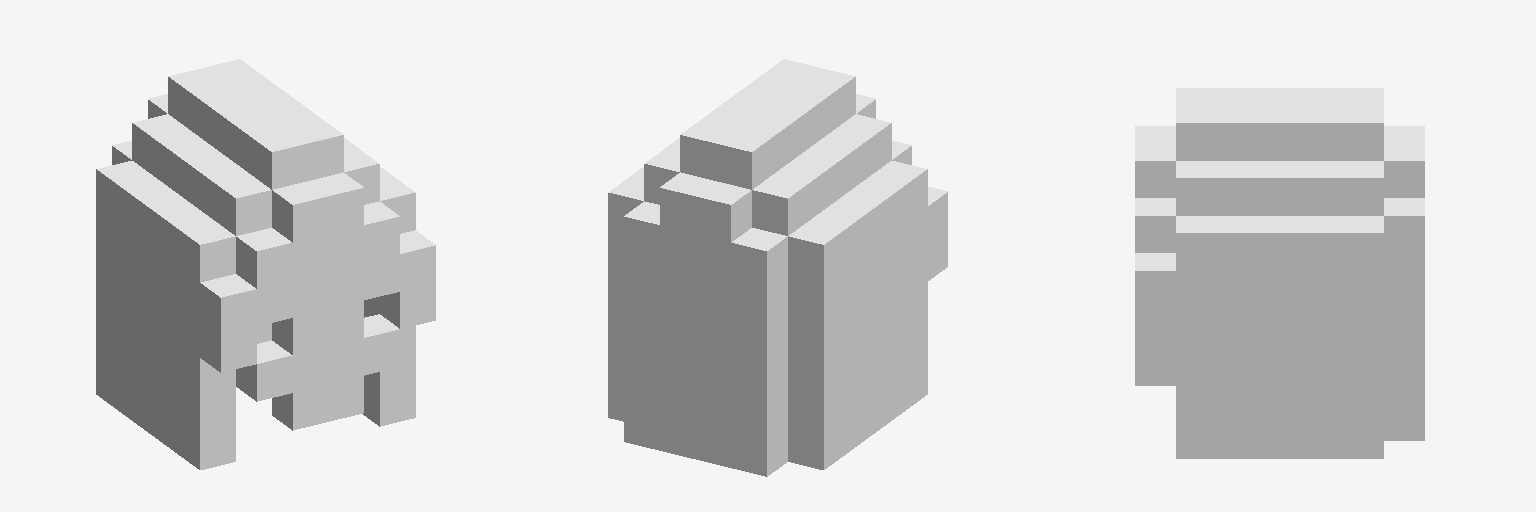
The model's file is char-214-helm_med_1b_ja.obj.
3 views of the same model, side by side, from view 1: azimuth 30°, elevation 25°; view 2: azimuth 150°, elevation 25°; view 3: azimuth 270°, elevation 25° (orthographic).
Parts seen in each view (by area): view 1: helm_med_1b_ja; view 2: helm_med_1b_ja; view 3: helm_med_1b_ja.
Boxes of the visible parts, x1,y1,x2,y2 form: helm_med_1b_ja: [96, 59, 435, 469]; helm_med_1b_ja: [608, 59, 947, 476]; helm_med_1b_ja: [1135, 88, 1424, 458].
Bounding box in the file's own units: 0.6 × 0.8 × 0.7.